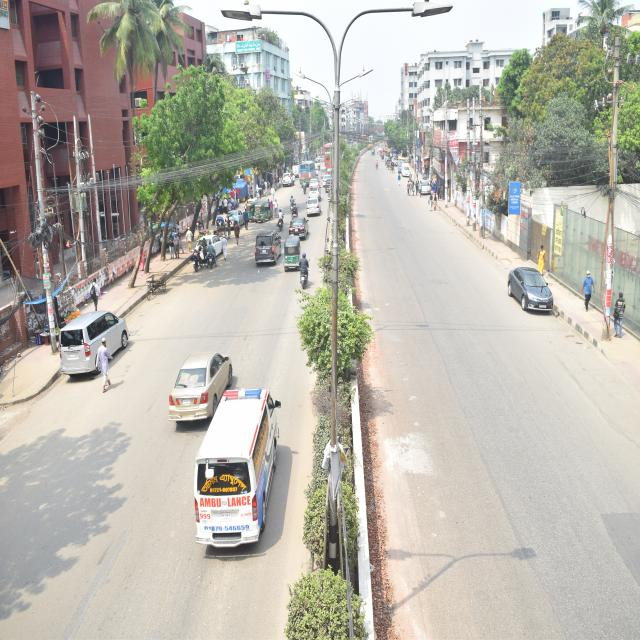car: (160, 348, 234, 426), (55, 308, 134, 378), (507, 262, 556, 318), (254, 224, 283, 267), (193, 232, 228, 260), (289, 212, 312, 242), (303, 192, 324, 222), (419, 176, 434, 194)
microbus: (192, 382, 282, 564)
motorbike: (298, 248, 312, 294)
